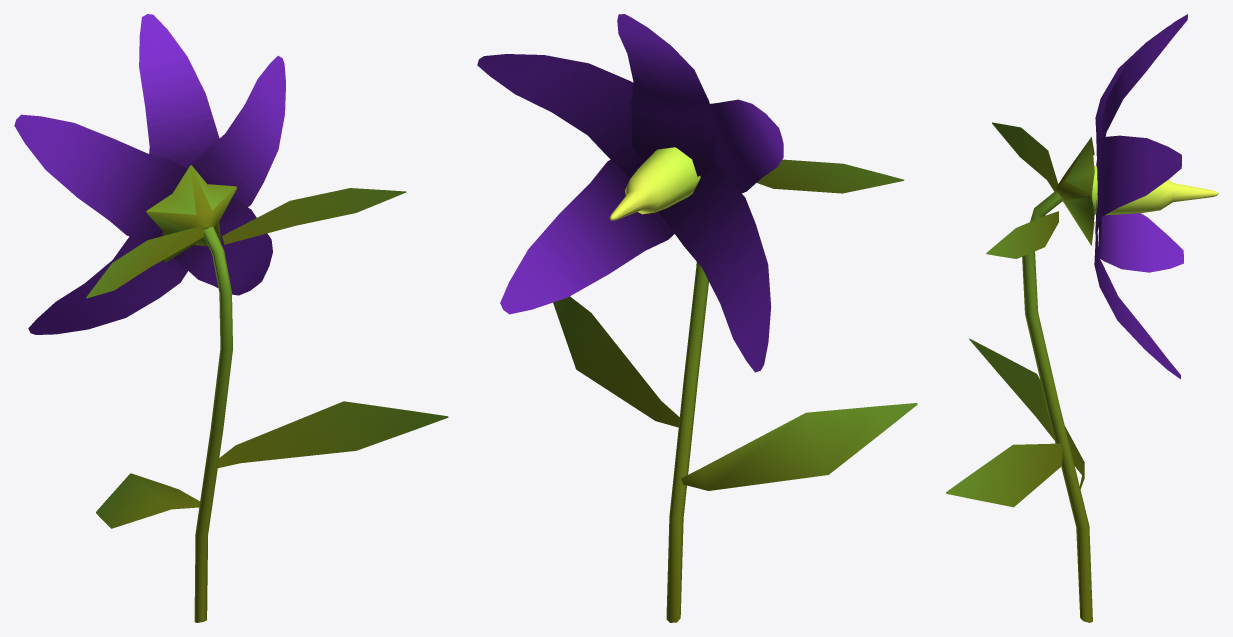
Rendered from nightshade.fbx.
3 views of the same model, side by side, from view 1: azimuth 30°, elevation 25°; view 2: azimuth 150°, elevation 25°; view 3: azimuth 270°, elevation 25° (orthographic). The views are drawn at different scales.
Visible parts, largest first — view 1: Flower, Stem; view 2: Flower, Stem; view 3: Stem, Flower.
Part boxes in pixels (x1,y1,x2,y2): Flower: (14, 14, 285, 334); Stem: (86, 165, 448, 622); Flower: (477, 14, 783, 372); Stem: (553, 159, 917, 622); Stem: (946, 122, 1094, 622); Flower: (1092, 14, 1218, 379).
Size of the model in its own units: 578 by 929 by 380.
